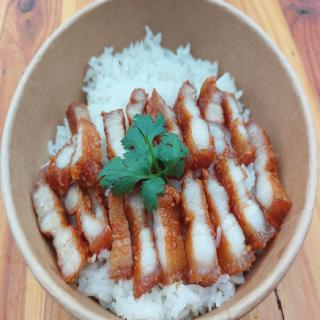carbs: (52, 29, 256, 112)
fried_pork_rice: (24, 27, 301, 297)
meat: (25, 97, 293, 284)
